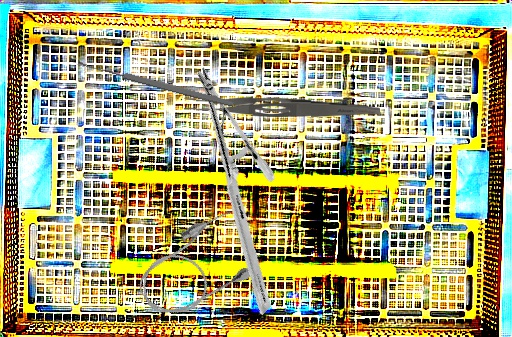Cannula: (125, 204, 265, 330)
Dressing Forceps: (183, 94, 381, 119)
Needle Holder: (108, 64, 359, 317)
Surgical Spoon: (76, 58, 235, 109)
